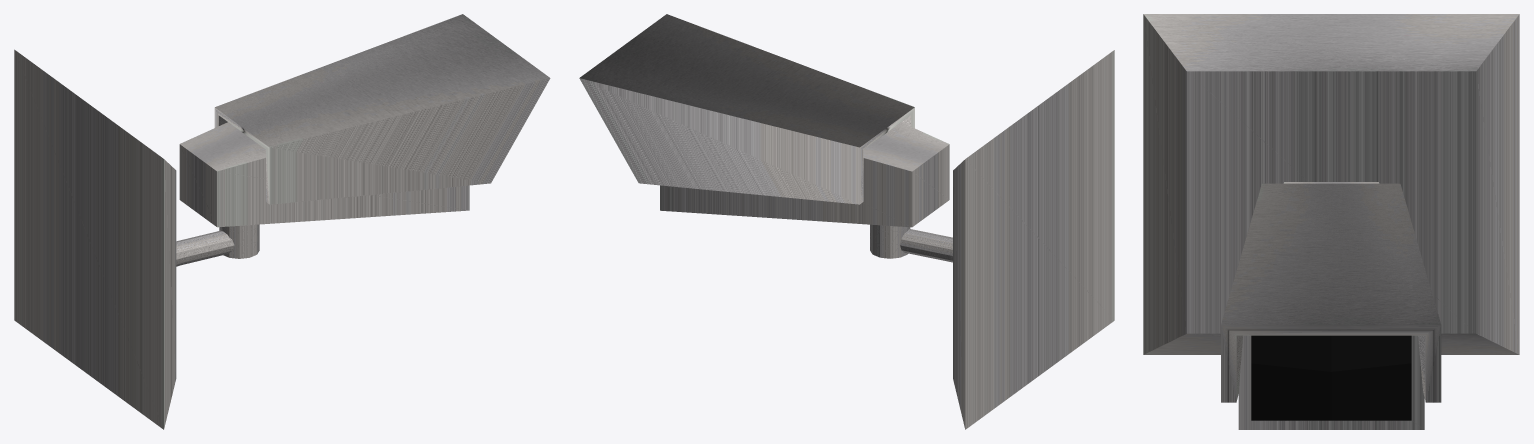
File: telecamera.fbx
The picture shows the model from 3 angles, left to right: view 1: azimuth 30°, elevation 25°; view 2: azimuth 150°, elevation 25°; view 3: azimuth 270°, elevation 25°; orthographic projection. The views are drawn at different scales.
Visible parts, largest first — view 1: Cube_2, Generic, Cube_1, Cylinder, Cylinder_1; view 2: Cube_2, Generic, Cube_1, Cylinder, Cylinder_1; view 3: Cube_2, Generic, Cube, Cube_1.
Part boxes in pixels (x1,y1,x2,y2): Cube_2: [14, 49, 176, 429]; Generic: [214, 14, 550, 204]; Cube_1: [179, 122, 469, 227]; Cylinder: [176, 230, 234, 266]; Cylinder_1: [219, 224, 259, 258]; Cube_2: [953, 50, 1114, 429]; Generic: [579, 14, 914, 204]; Cube_1: [660, 122, 949, 227]; Cylinder: [900, 229, 952, 262]; Cylinder_1: [870, 224, 910, 258]; Cube_2: [1143, 14, 1519, 354]; Generic: [1221, 183, 1441, 402]; Cube: [1251, 335, 1411, 420]; Cube_1: [1238, 182, 1424, 429].
Bounding box in the file's own units: 1.61 × 1 × 1.
2 materials, 1 textured.
